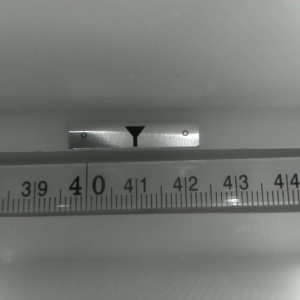0: (92, 176, 105, 195)
1: (139, 178, 145, 193)
2: (187, 176, 197, 191)
3: (20, 181, 31, 197), (238, 175, 248, 190)
4: (68, 176, 82, 196), (273, 173, 284, 188), (222, 175, 232, 190), (289, 173, 299, 188), (123, 179, 133, 193), (172, 176, 181, 191)
9: (36, 181, 47, 196)
finger: (123, 127, 145, 148)
